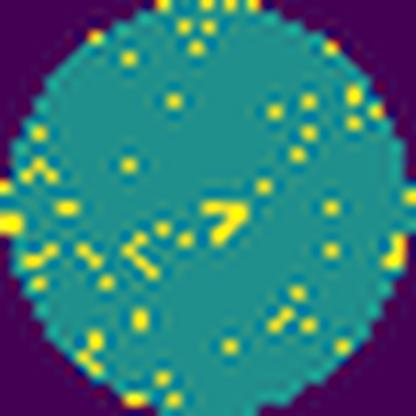Center: (198, 198, 252, 247)
